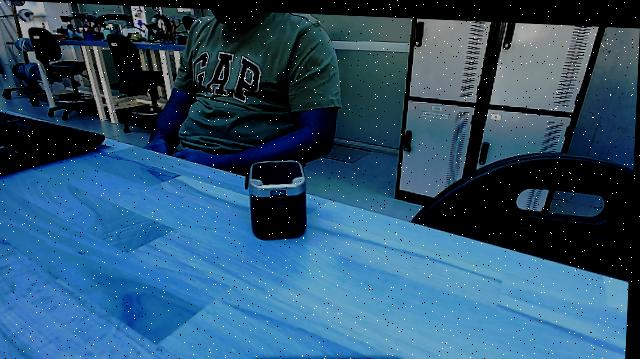adapter: (243, 151, 318, 253)
